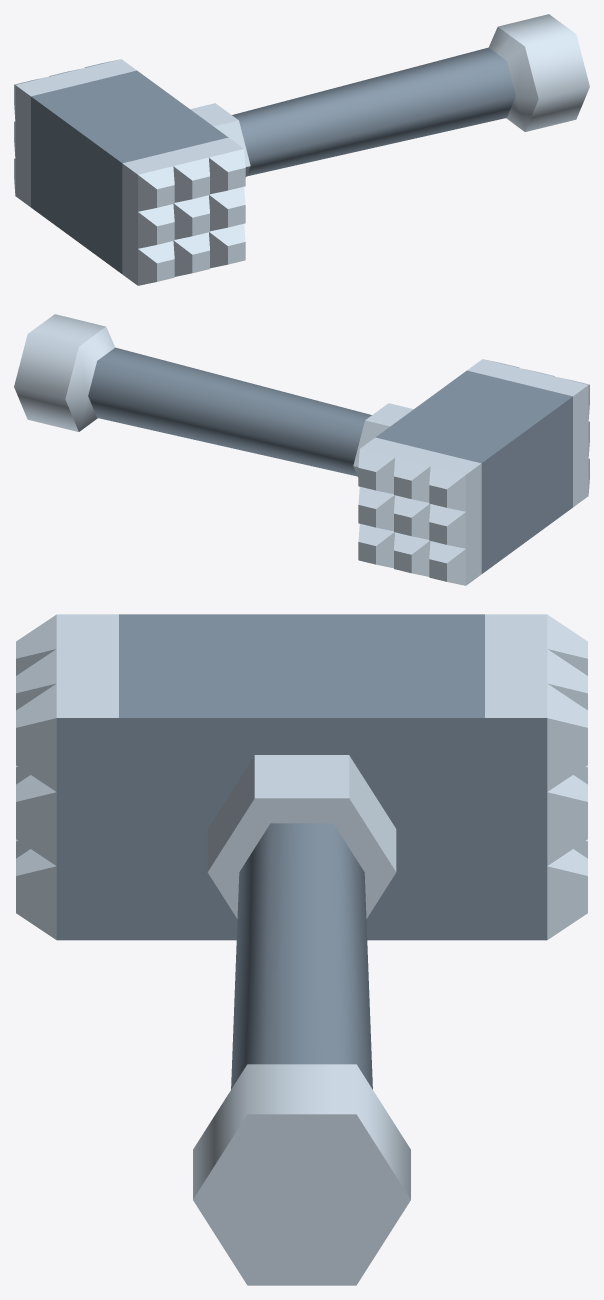
Rendered from meatTenderizer.fbx.
3 views of the same model, one above another, from view 1: azimuth 30°, elevation 25°; view 2: azimuth 150°, elevation 25°; view 3: azimuth 270°, elevation 25° (orthographic). The views are drawn at different scales.
Parts seen in each view (by area): view 1: meatTenderizer; view 2: meatTenderizer; view 3: meatTenderizer.
Boxes of the visible parts, x1=… form: meatTenderizer: x1=14, y1=14, x2=589, y2=285; meatTenderizer: x1=14, y1=314, x2=589, y2=585; meatTenderizer: x1=16, y1=614, x2=587, y2=1285.
Bounding box in the file's own units: 5.41 × 1.18 × 2.76.
